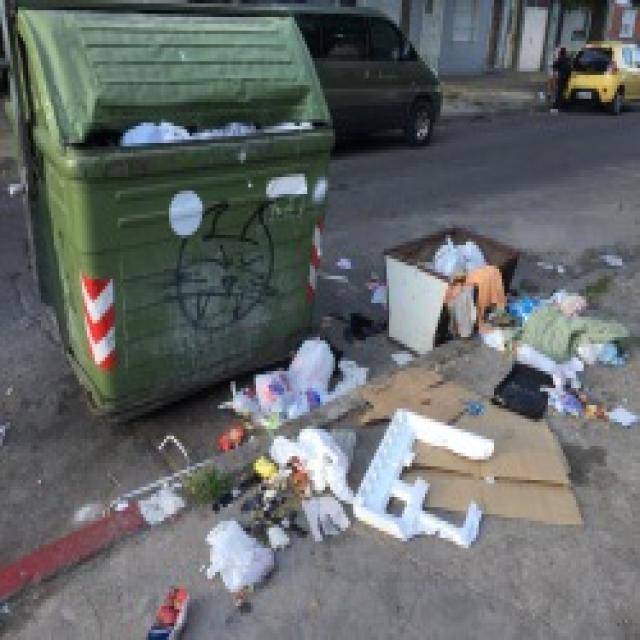garbage: (169, 432, 363, 592), (494, 296, 622, 426), (223, 344, 358, 415), (427, 232, 507, 337)
